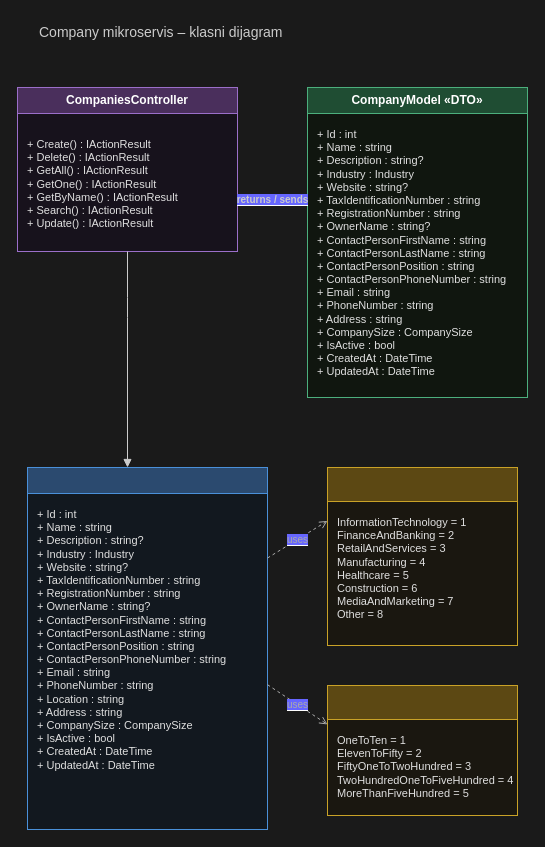
Image size: 545x847. Some labels were removed from this diagram. Each missing label, with the centre of its shape:
"Company" belongs at [147,480].
"«enumeration» CompanySize" belongs at [422,702].
"«enumeration» Industry" belongs at [422,484].
